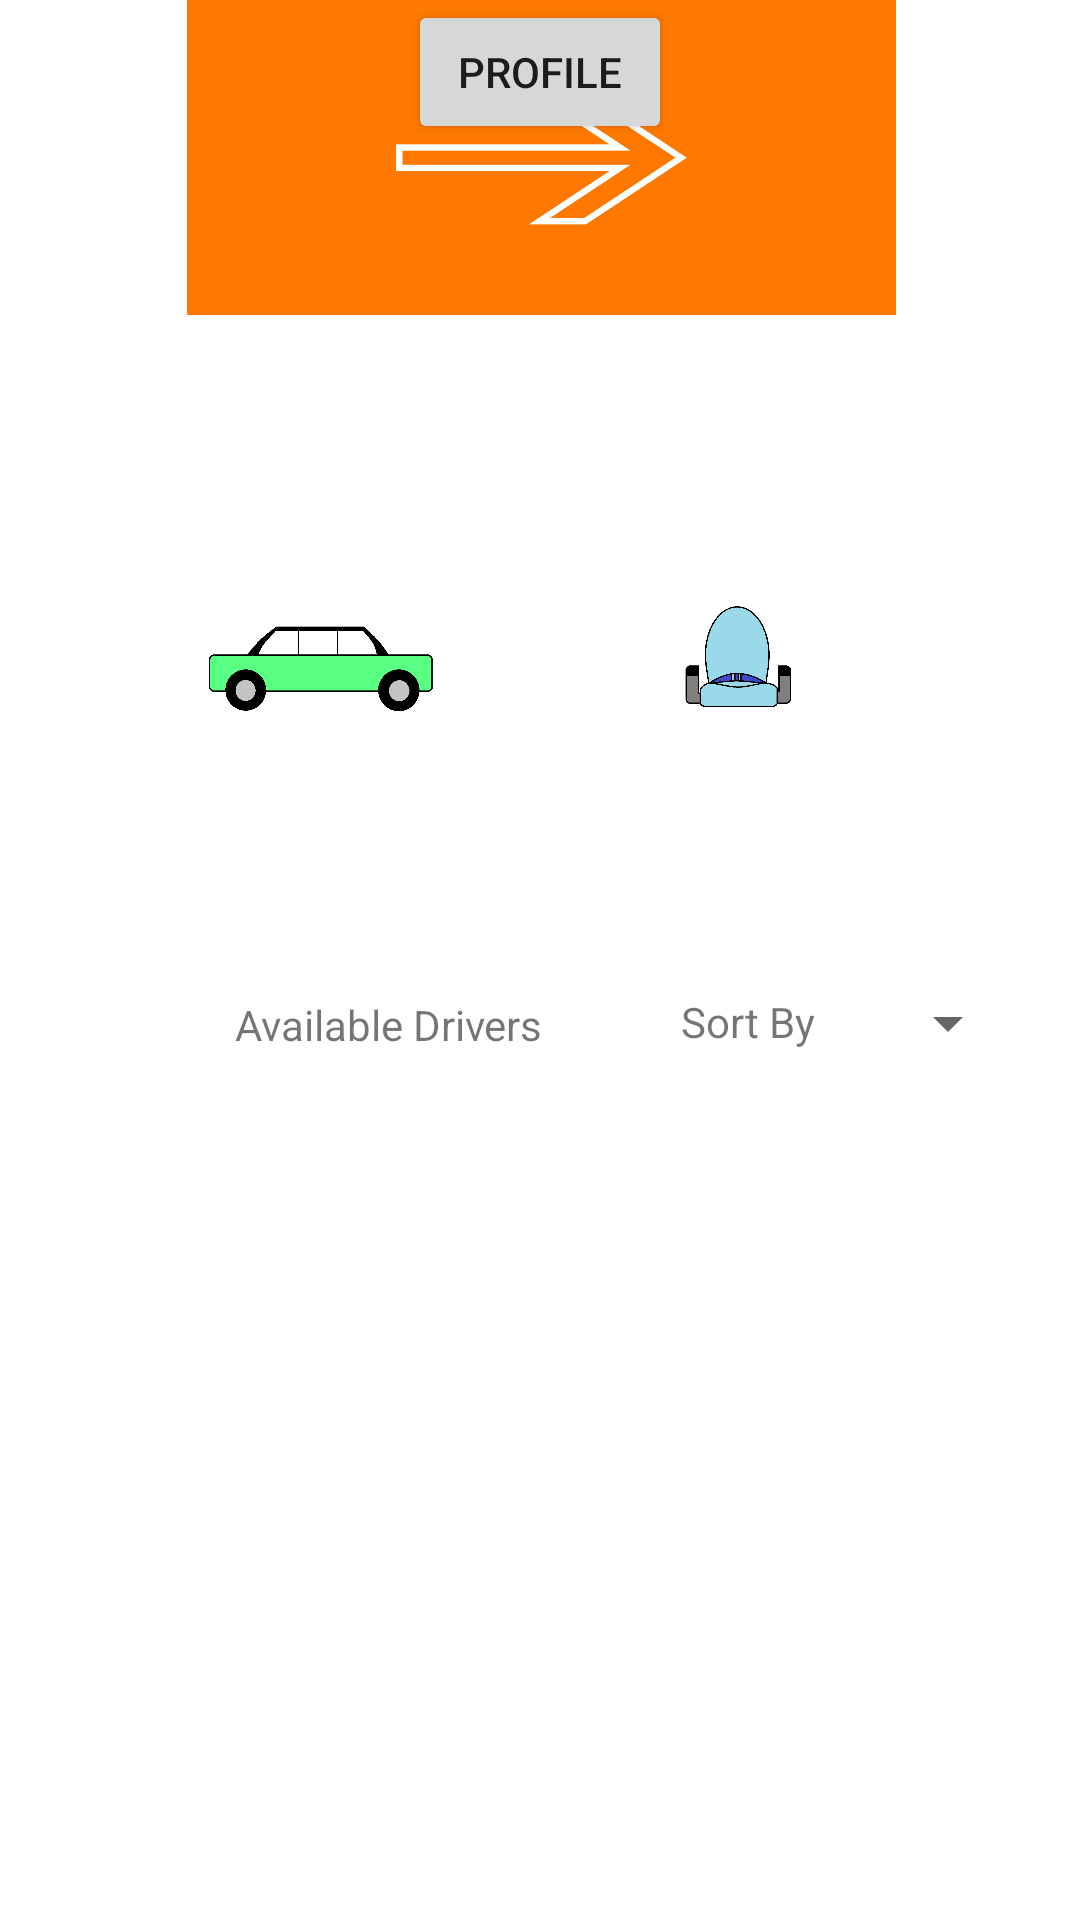

Icon click points for this 1080*1920 phone screenshot, format (x=x, y=y):
car: (x=321, y=668)
seat: (x=738, y=656)
